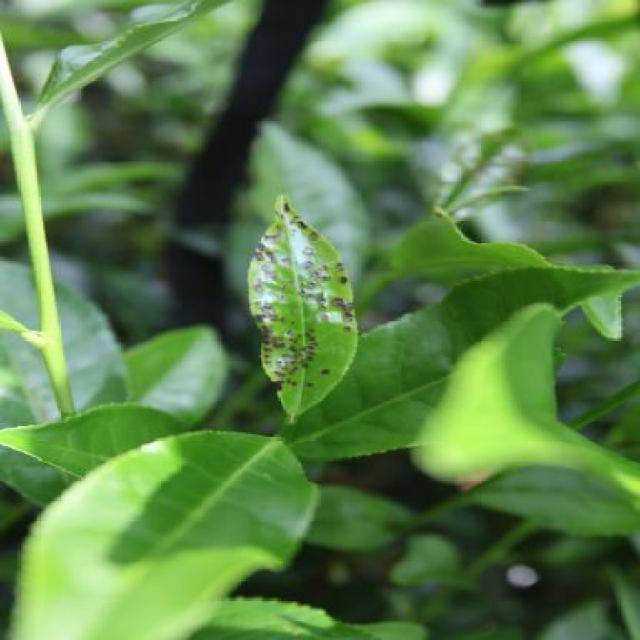Tea Mosquito bug infested leaf: (242, 190, 360, 428)
